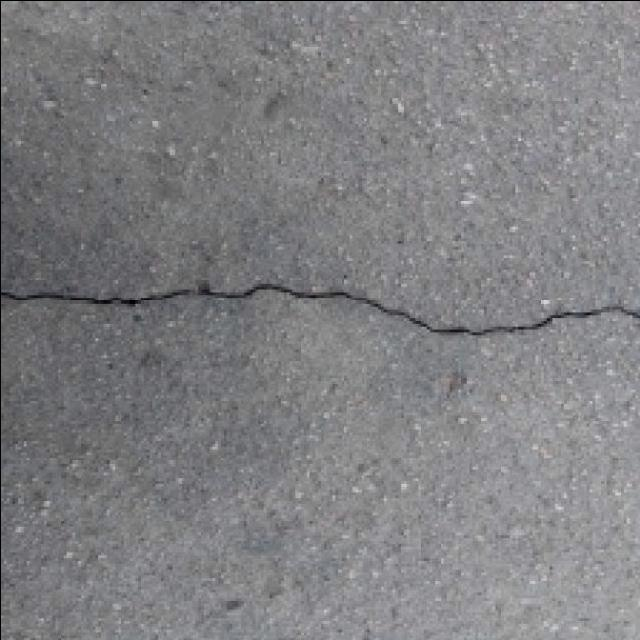SurfaceCrack: (4, 258, 640, 360)
